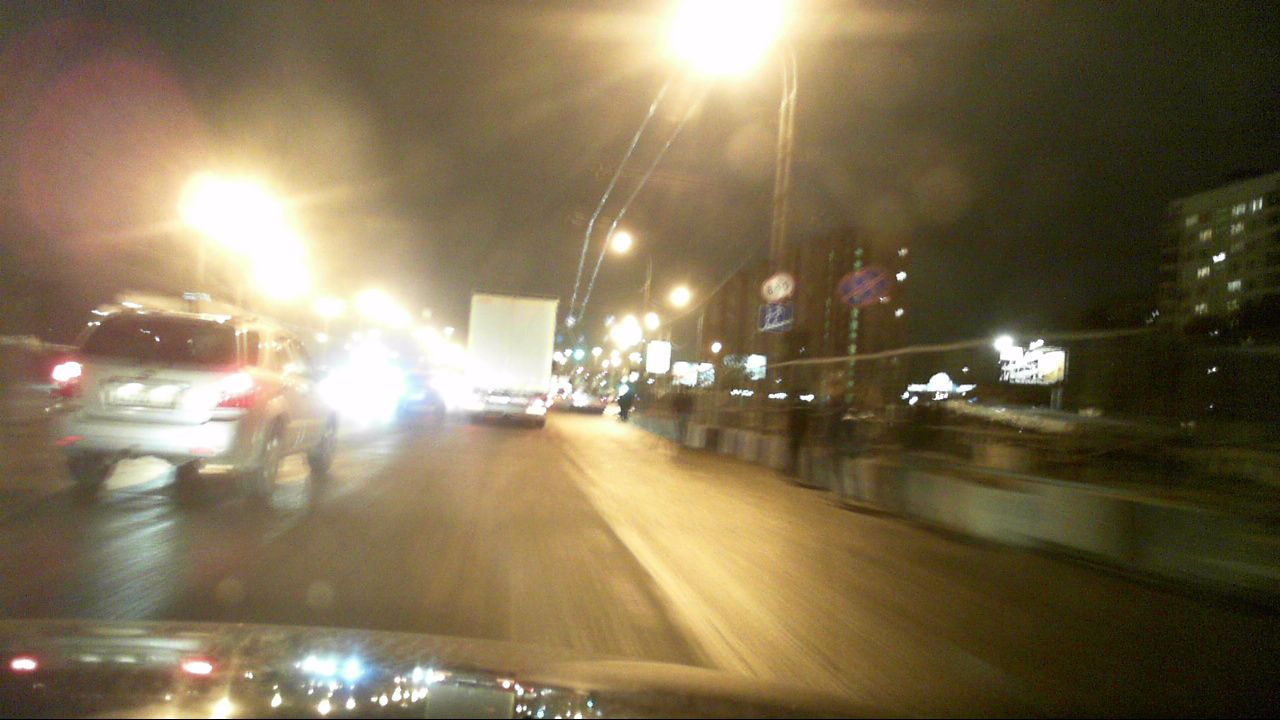No Parking: (836, 271, 873, 308)
